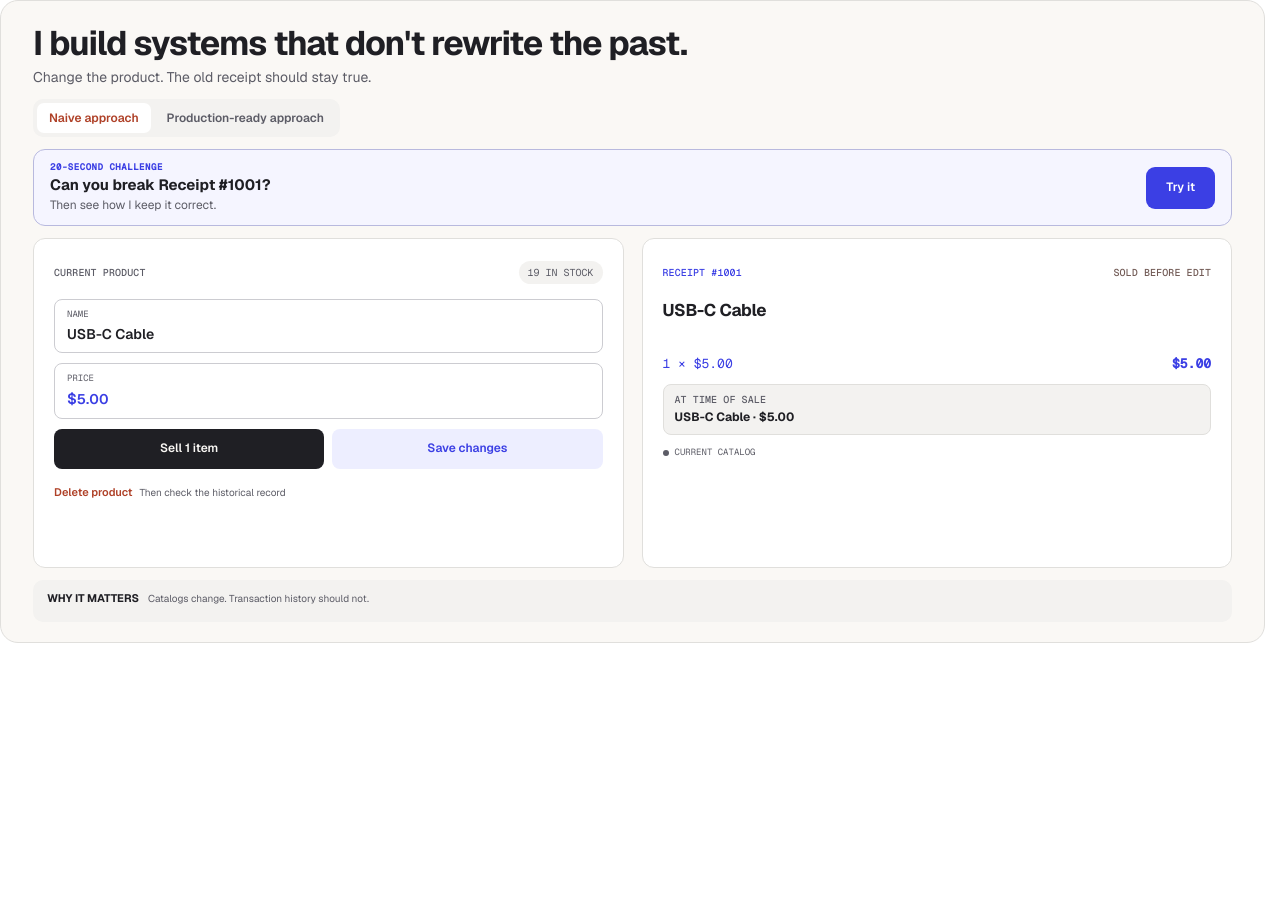
Test case: InventoryDemo › creates Receipt #1002 from the current catalog and keeps #1001 selectable
This screenshot has width=1280, height=900.
Click the tab "Production-ready approach" at (245, 118), box [155,103,336,133]
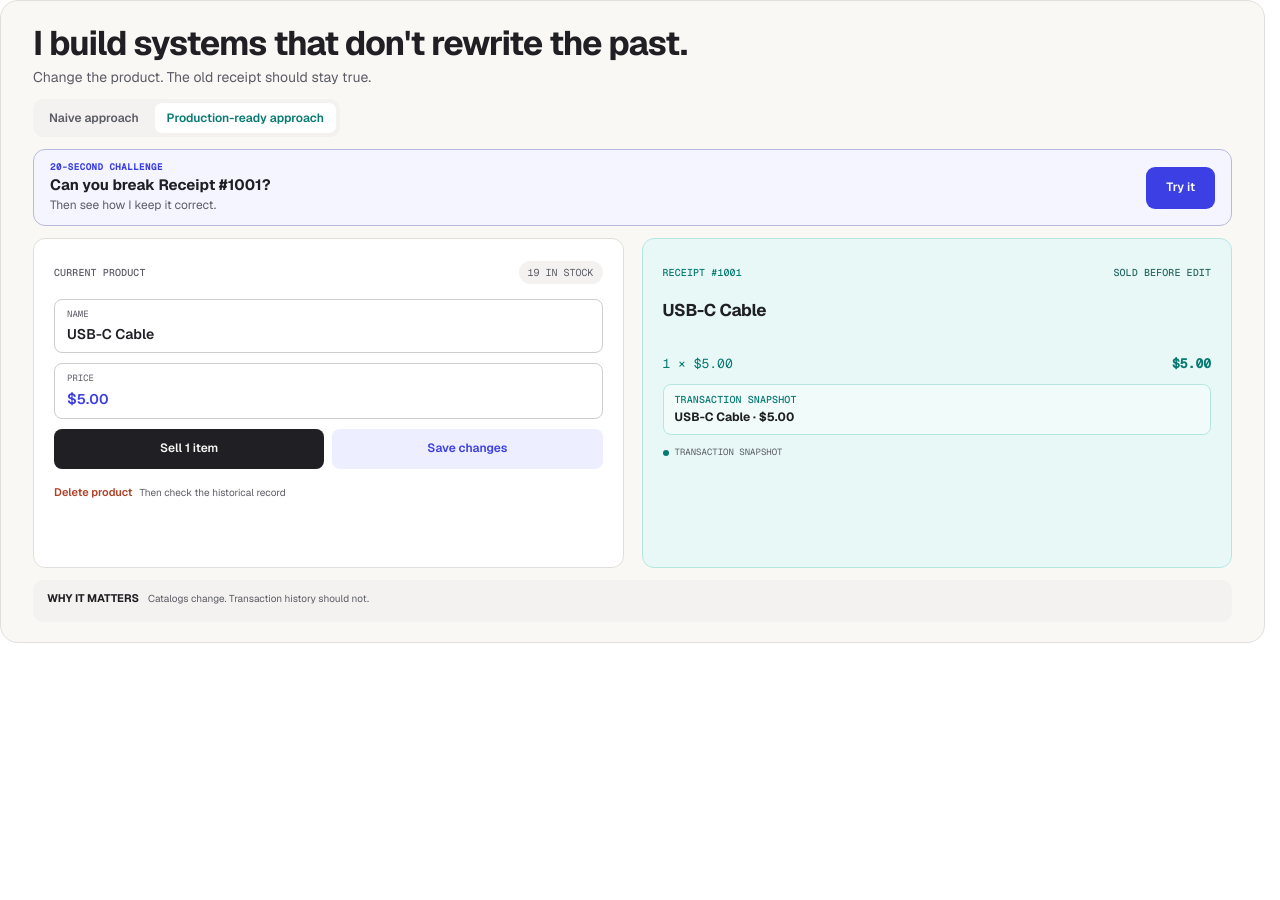
Replace the text in the field labelled "Name" with "Premium Braided USB-C Cable" at (328, 334), box [67,325,590,344]
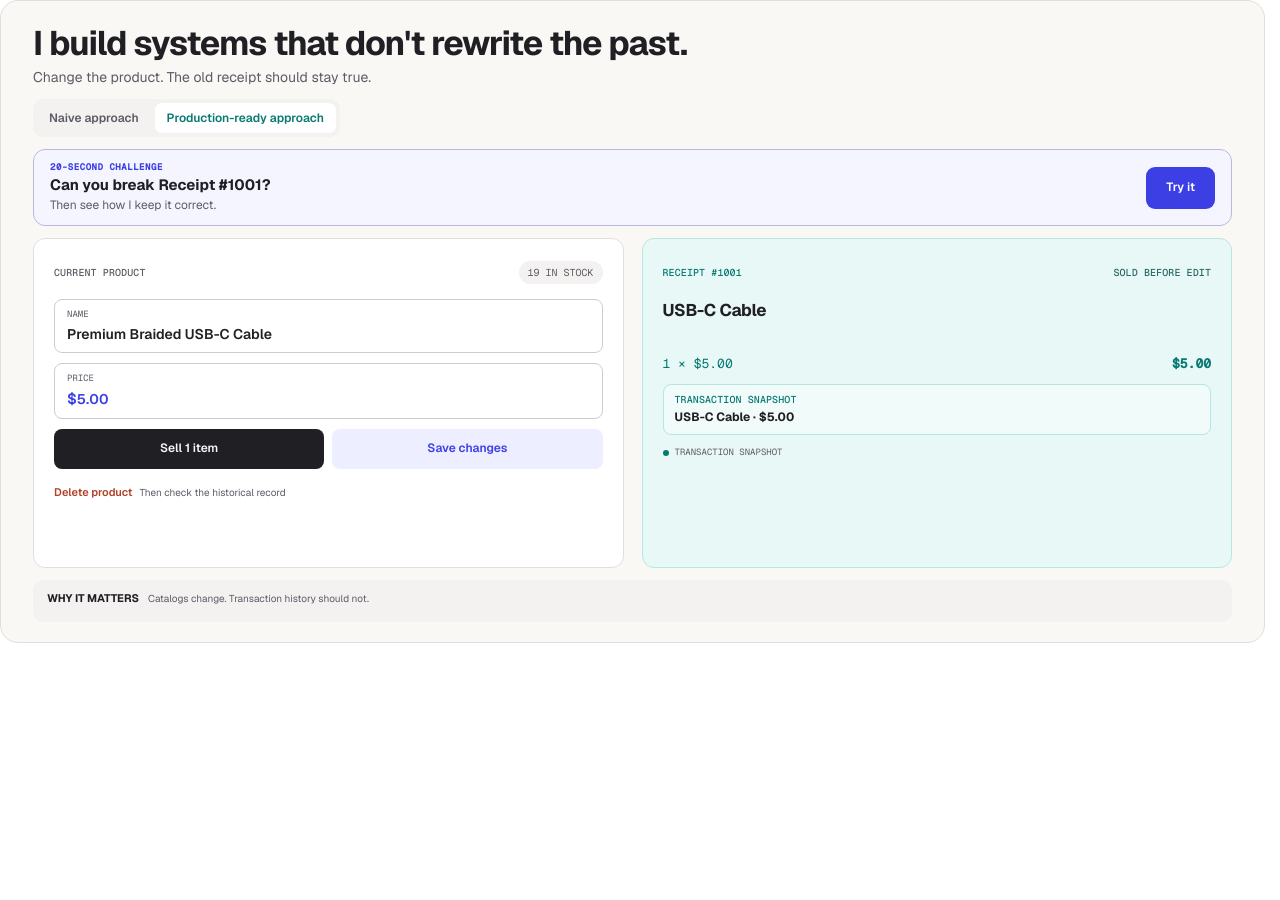
Replace the text in the field labelled "Price" with "8" at (333, 399), box [77,390,590,408]
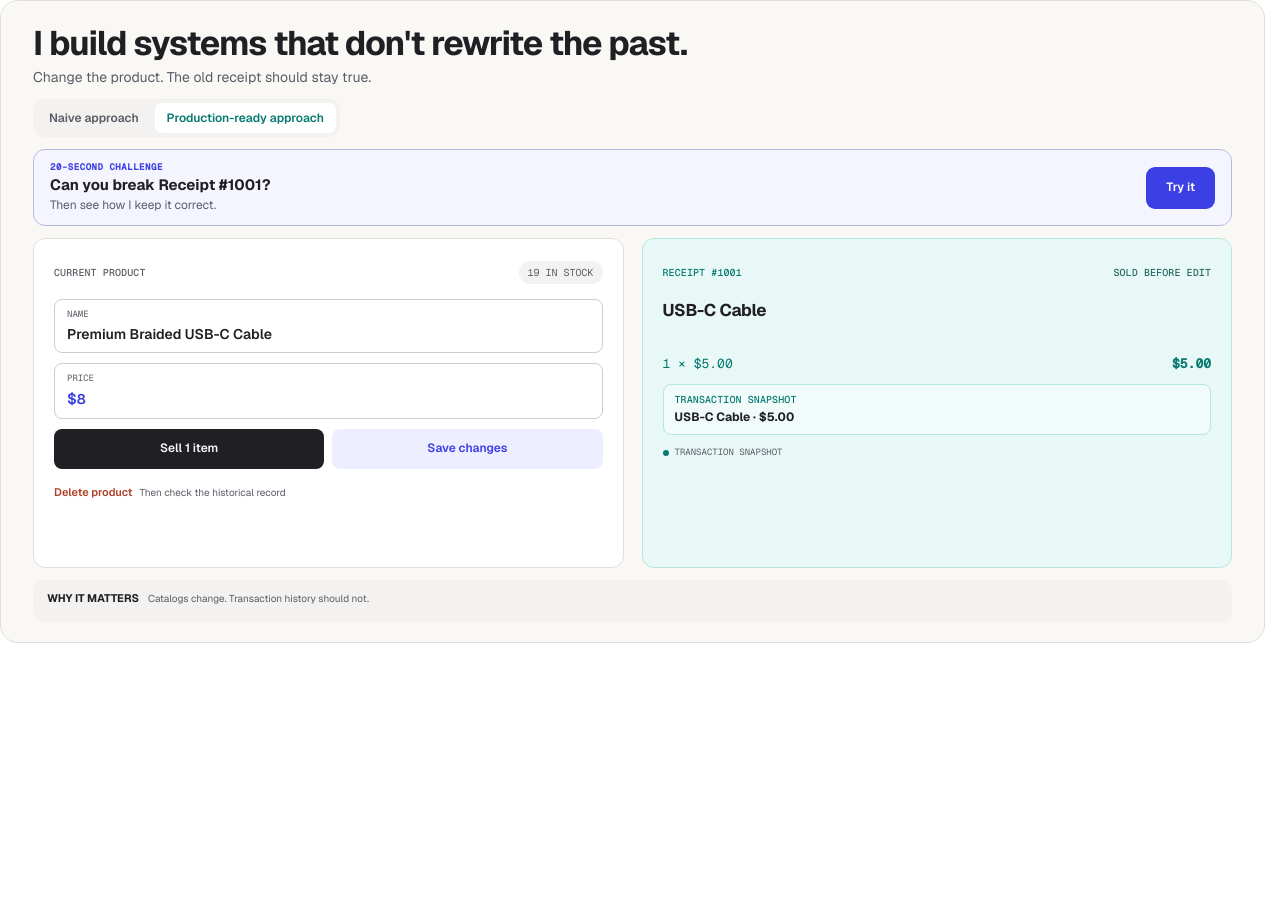
Click the button "Save changes" at (467, 449), box [332,429,603,469]
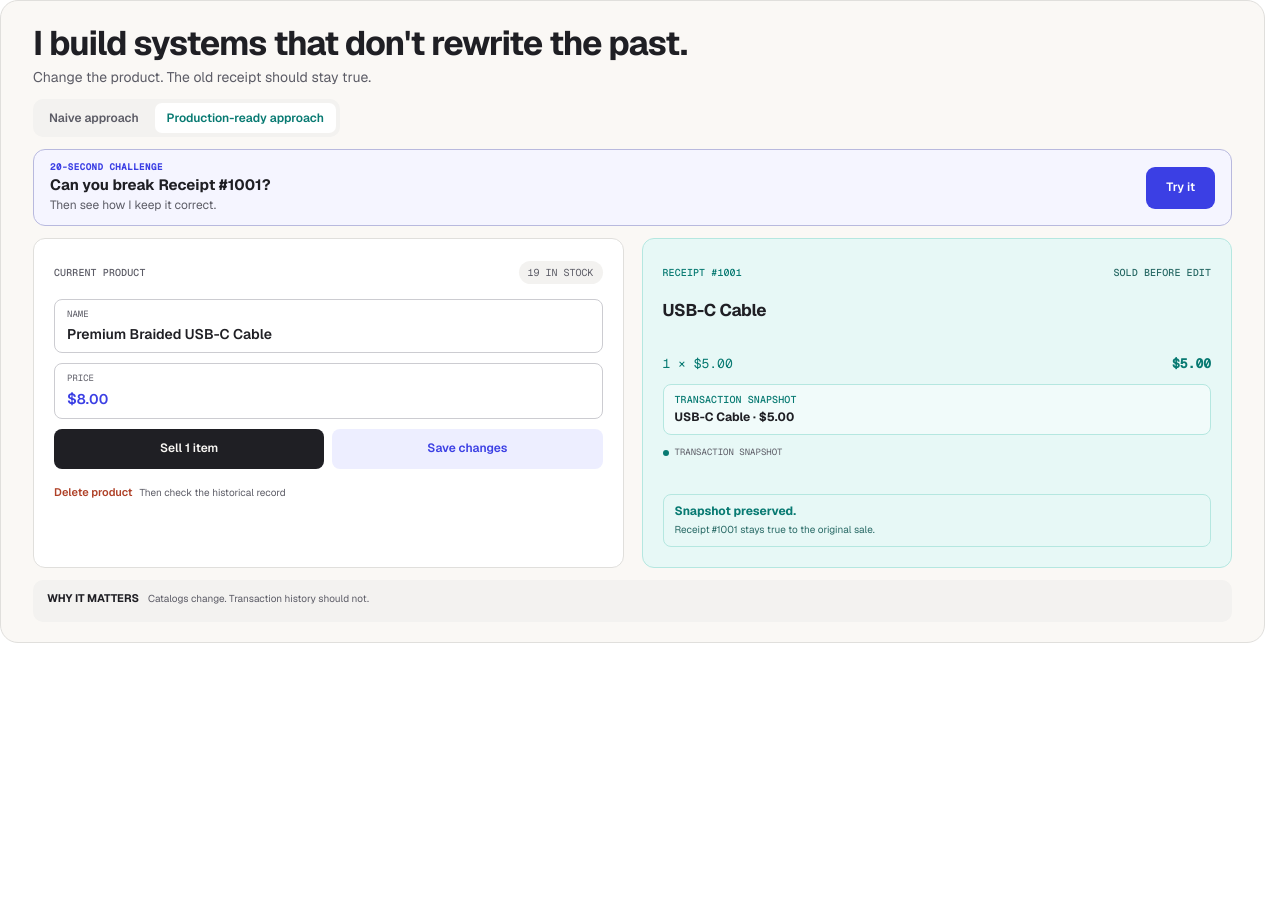
Click the button "Sell 1 item" at (189, 449), box [54,429,324,469]
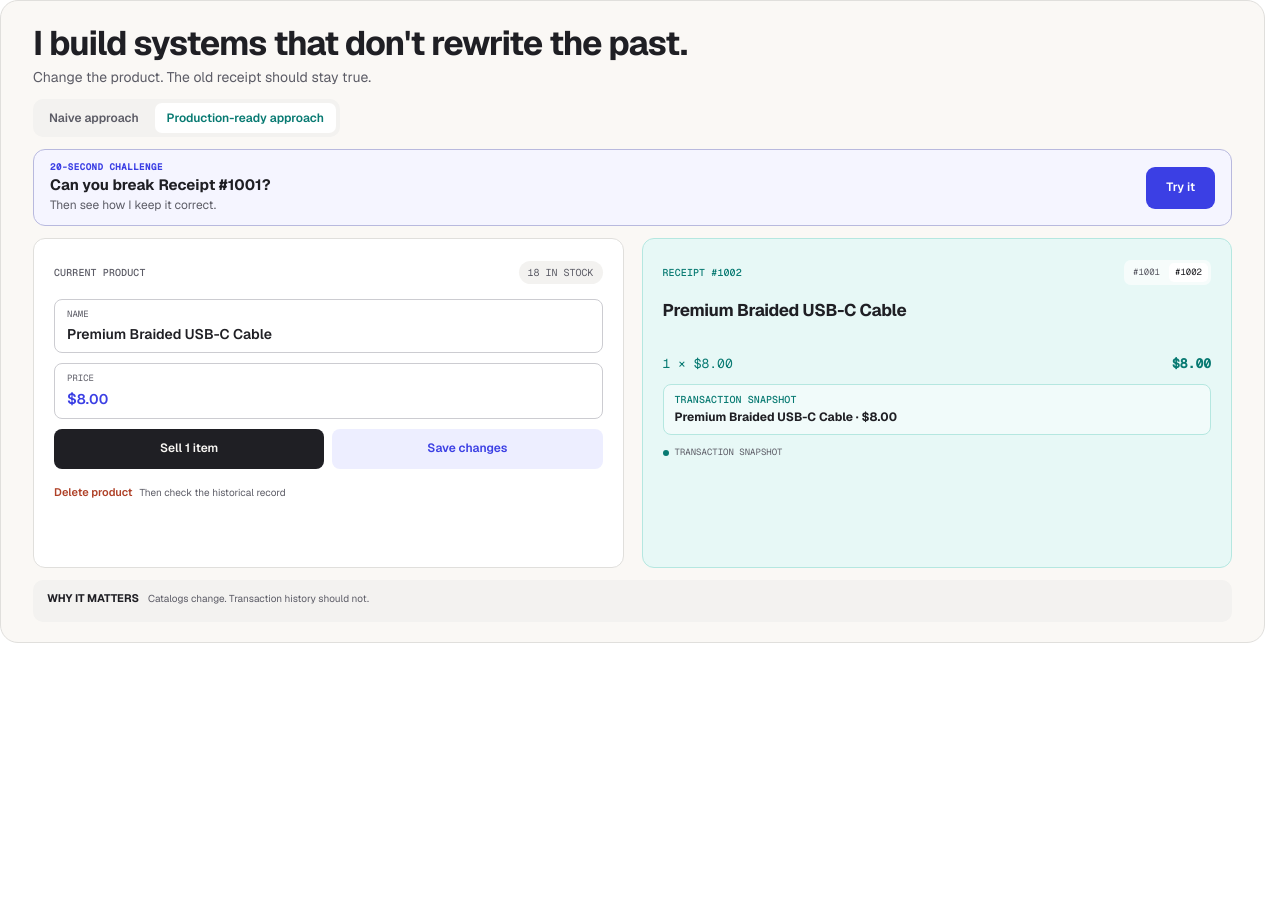
expect the element with test id "product-editor" shows "18 in stock": met, box [528,266,594,279]
expect the element with test id "receipt-card" shows "Premium Braided USB-C Cable": met, box [662,299,906,321]
expect the element with test id "receipt-card" shows "1 × $8.00": met, box [642,238,1232,568]
Click the button named "View receipt #1001" at (1146, 273), box [1127,263,1166,282]
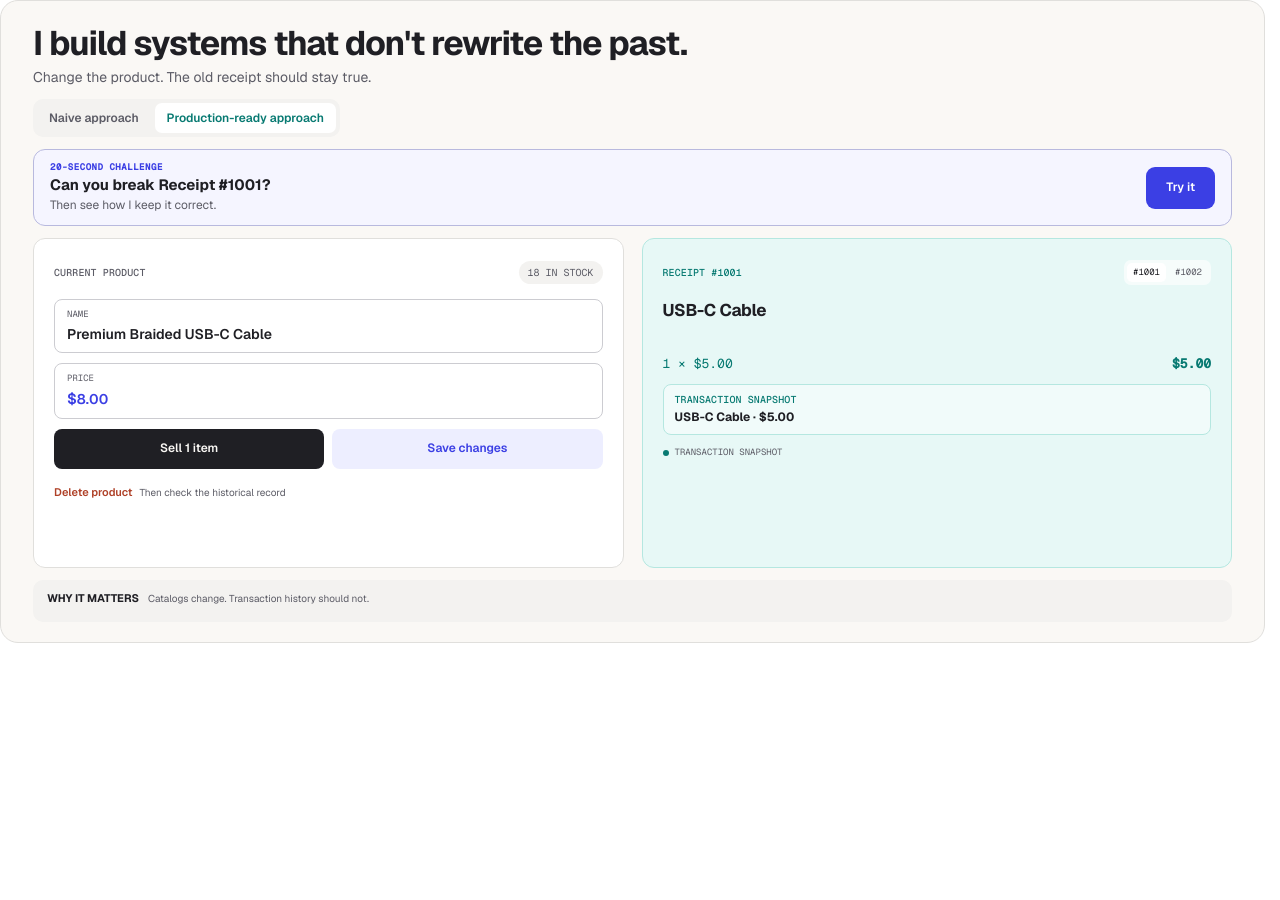
expect the element with test id "receipt-card" shows "USB-C Cable": met, box [662,299,766,321]
expect the element with test id "receipt-card" shows "1 × $5.00": met, box [642,238,1232,568]
